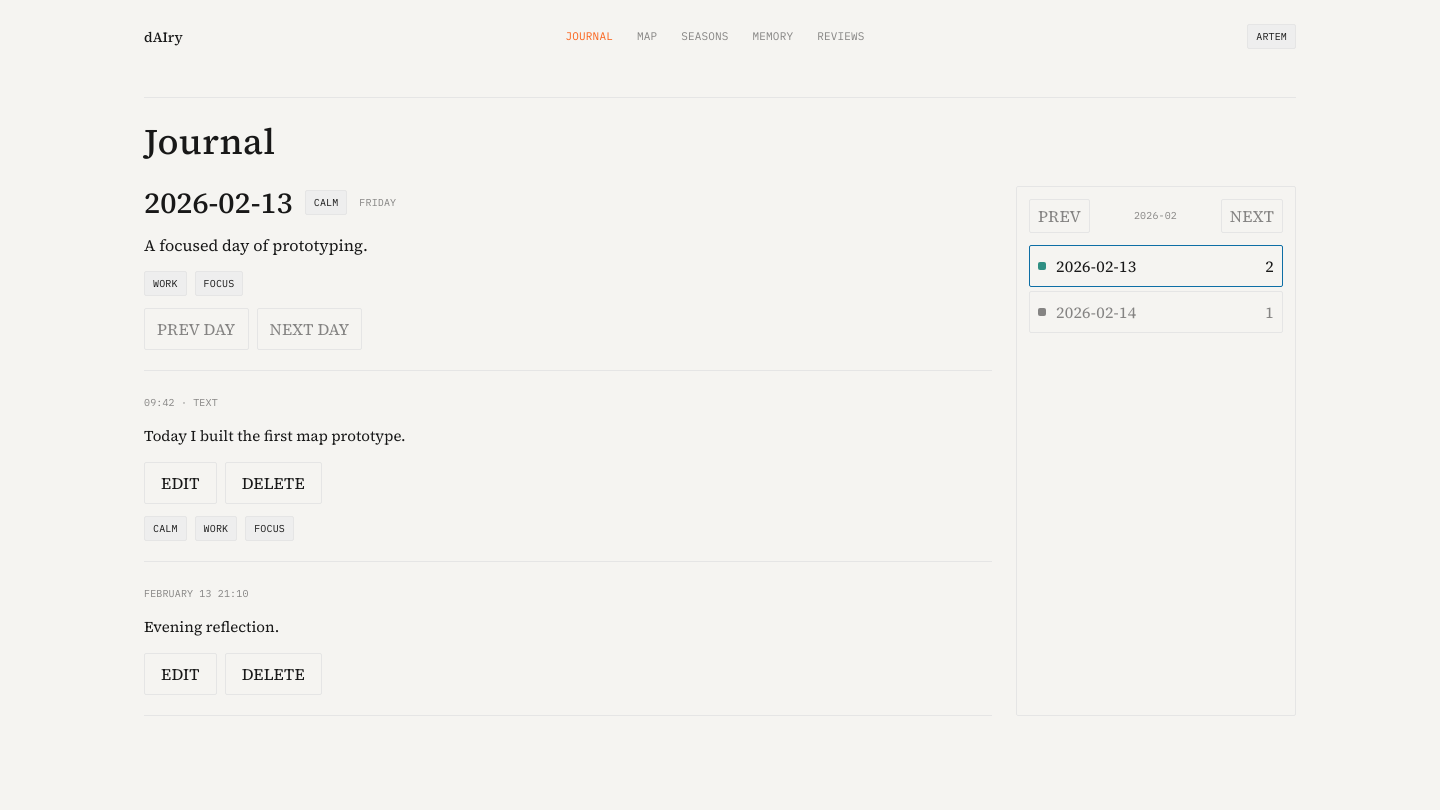
Scenario: Sprint 3 journal reader › deletes a journal note only after confirmation and refetches the day
Click the button "DELETE" below "Today I built the first map prototype.": x=273, y=483 [225,462,322,504]
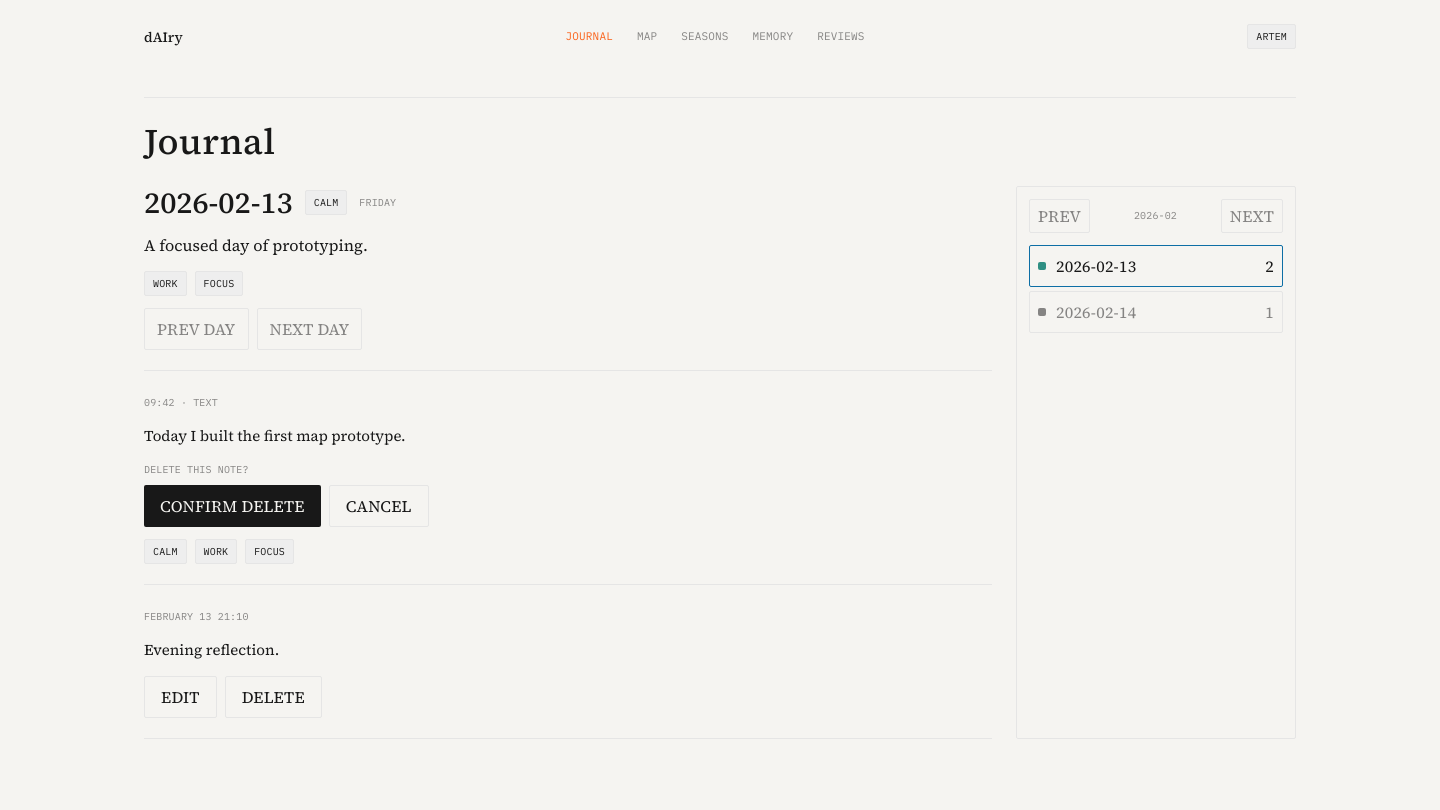
Expected: the text "DELETE THIS NOTE?" is shown, [144,463,249,476]
Click the button "CONFIRM DELETE": x=232, y=506 [144,485,321,527]
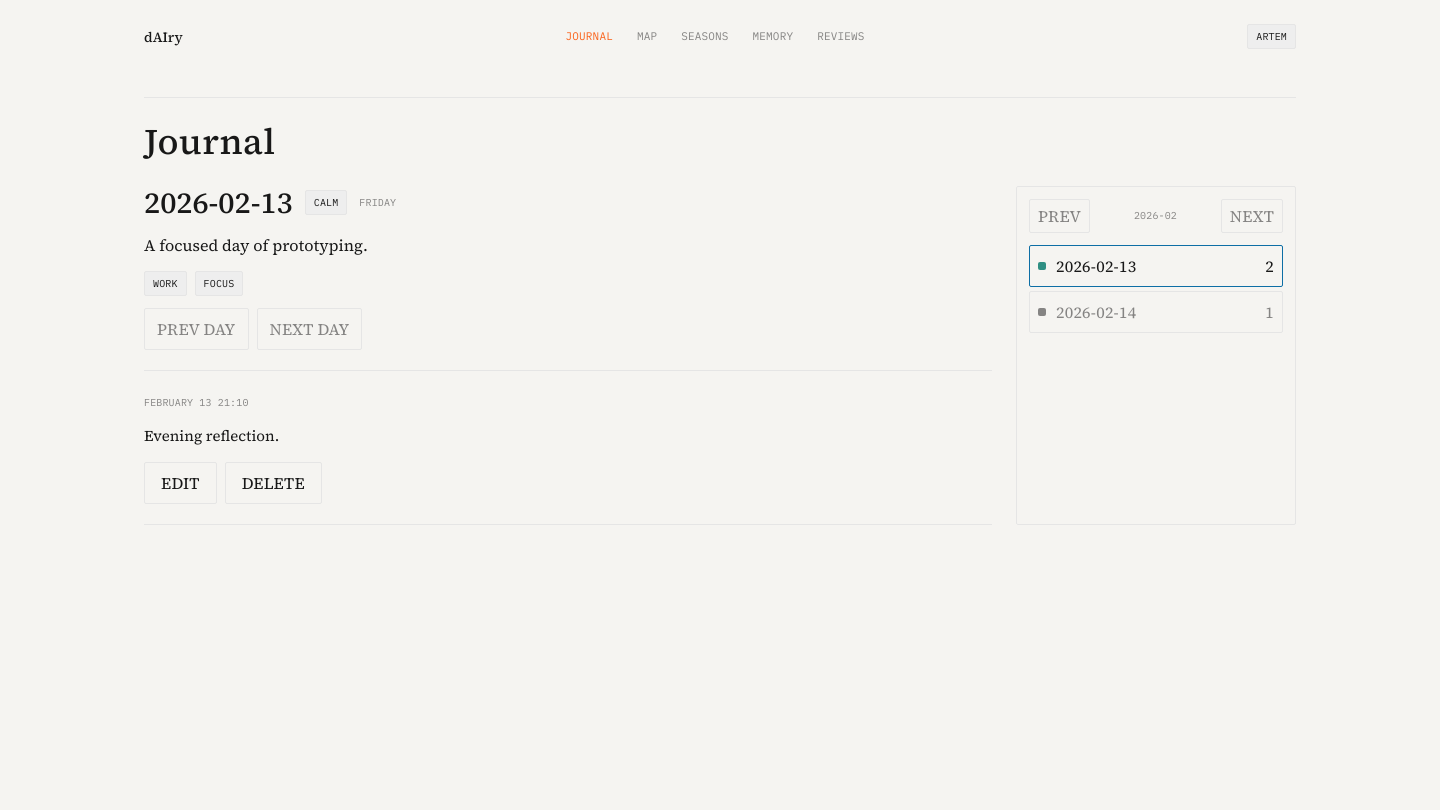
Expected: the text "Evening reflection." is shown, [144,425,279,446]
Expected: the text "Today I built the first map prototype." is gone
